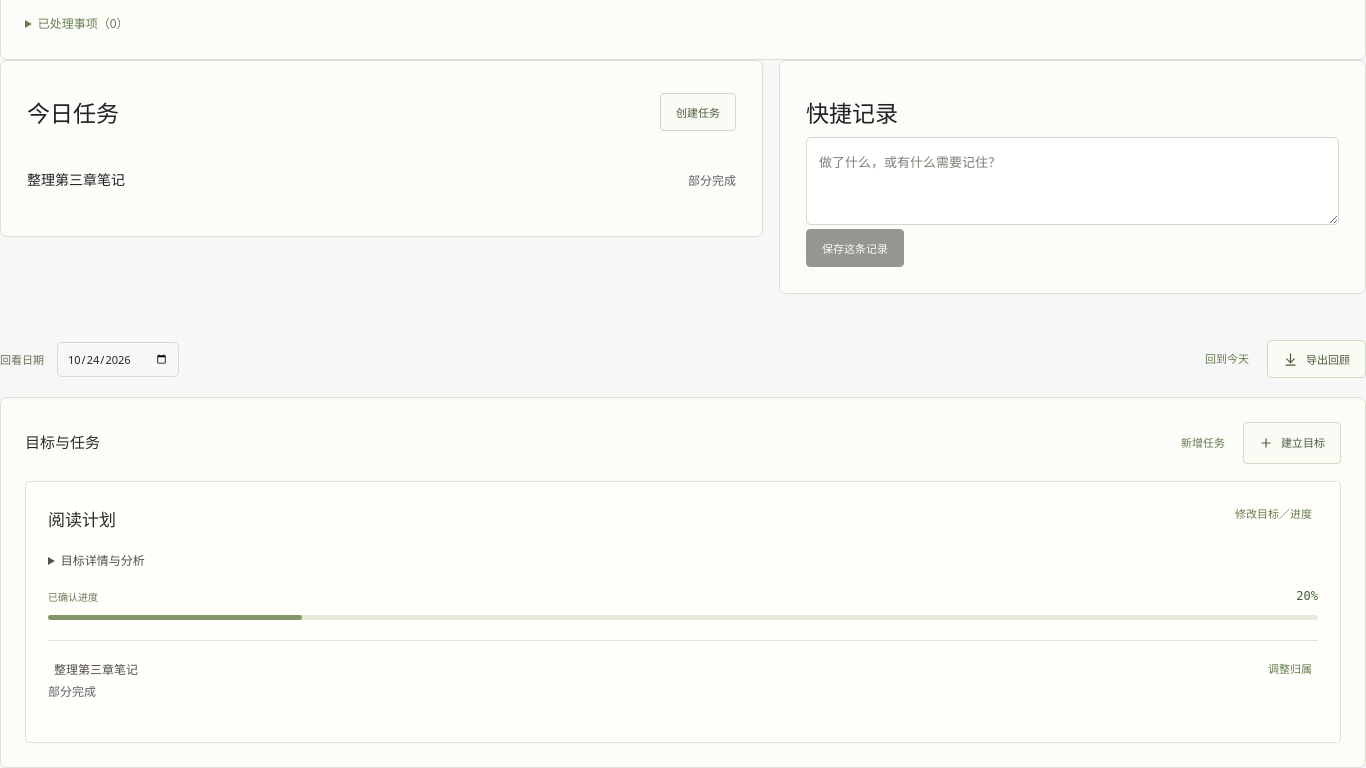
Test case: recording and approval workflows › confirms task assignment without changing historical progress
(page scrolled)
Click the button "调整归属". click: (1290, 669)
box: [1262,659,1318,680]
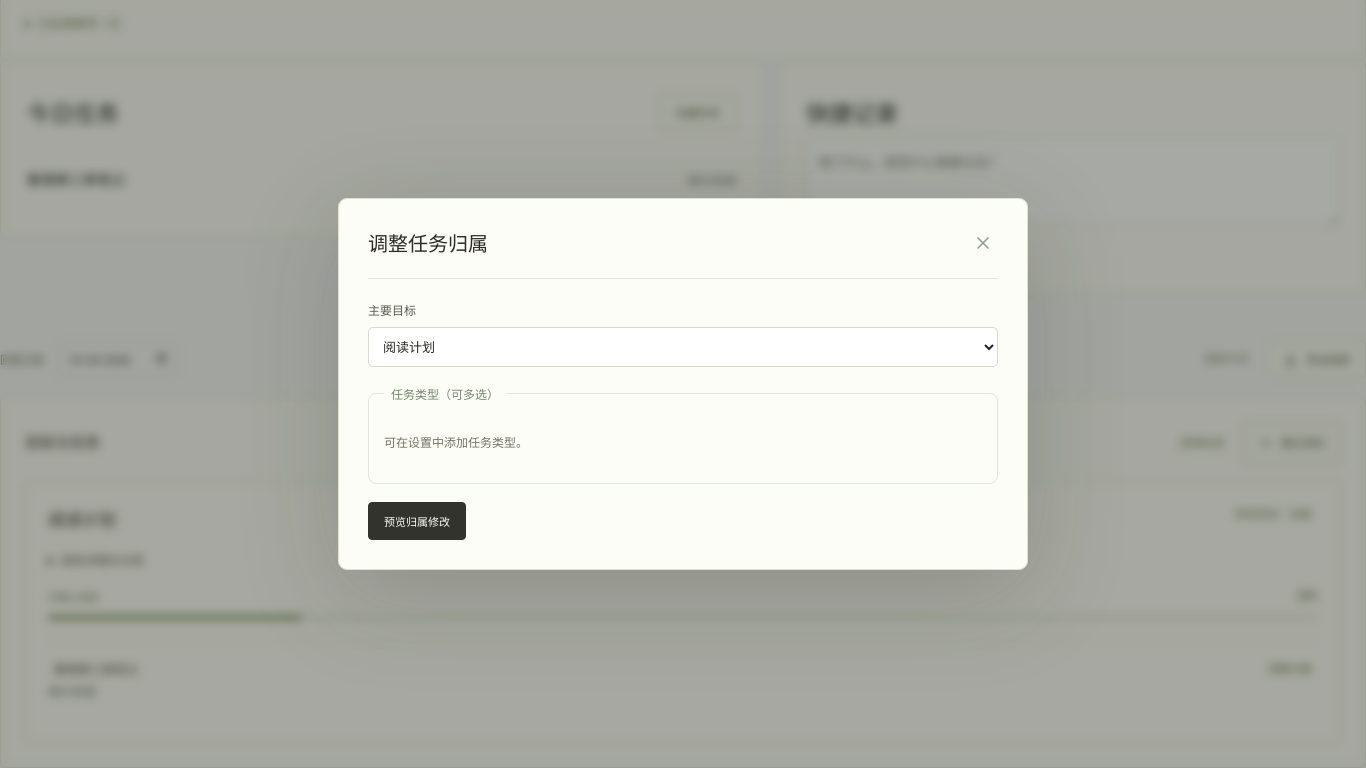
Select "暂不关联目标" in the dropdown labelled "主要目标". click: (683, 347)
box: [368,327,998,367]
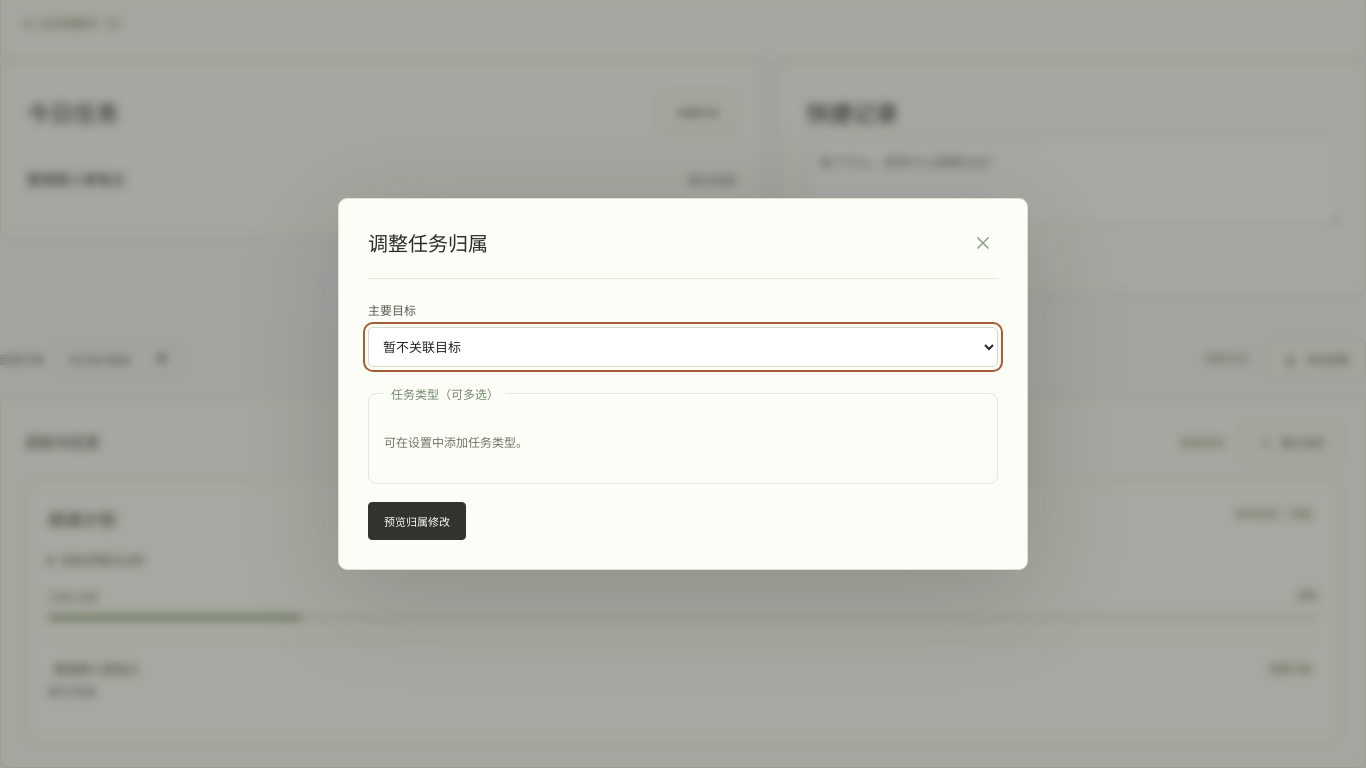
Click the button "预览归属修改". click: (417, 521)
box: [368,502,466,540]
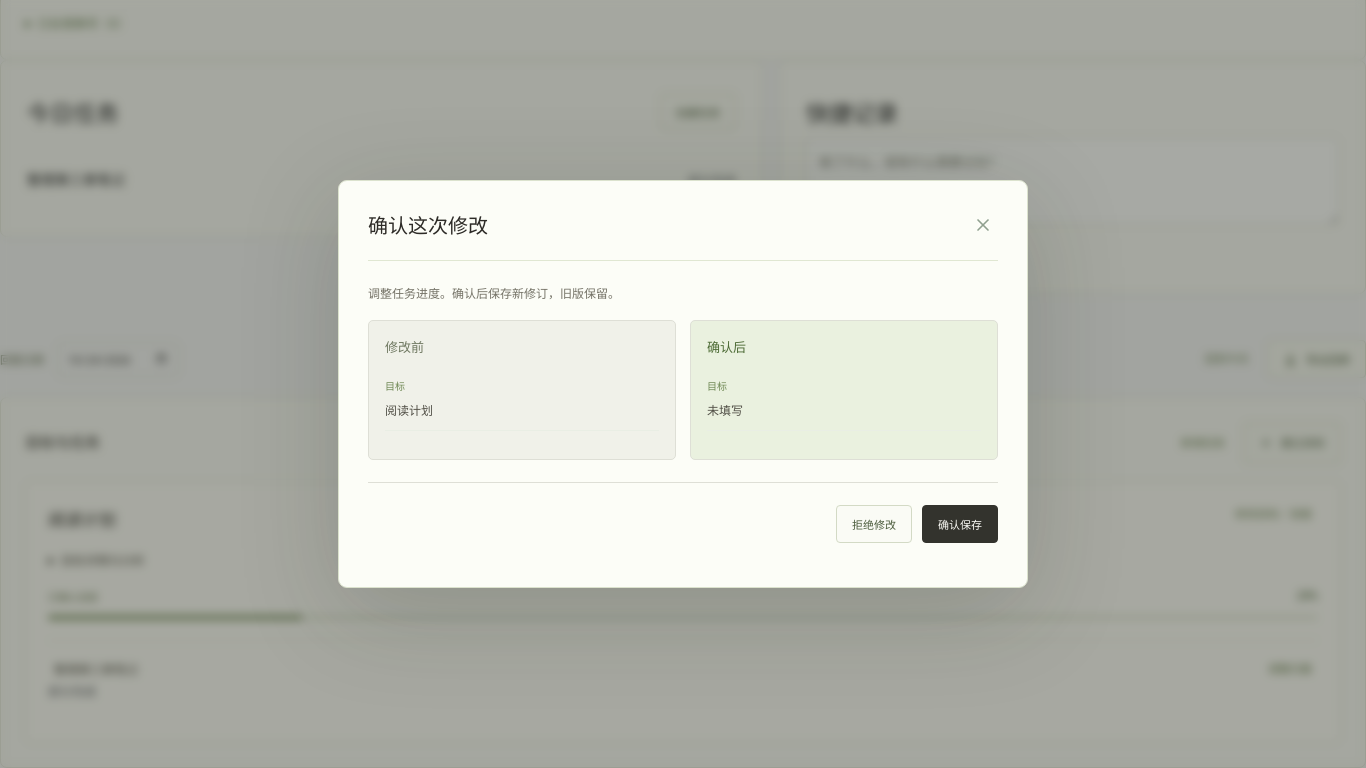
Expected: the heading "修改前" is shown, [385,338,424,356]
Expected: the heading "确认后" is shown, [707,338,746,356]
Click the button "确认保存". click: (960, 524)
box: [922,505,998,543]
(page scrolled)
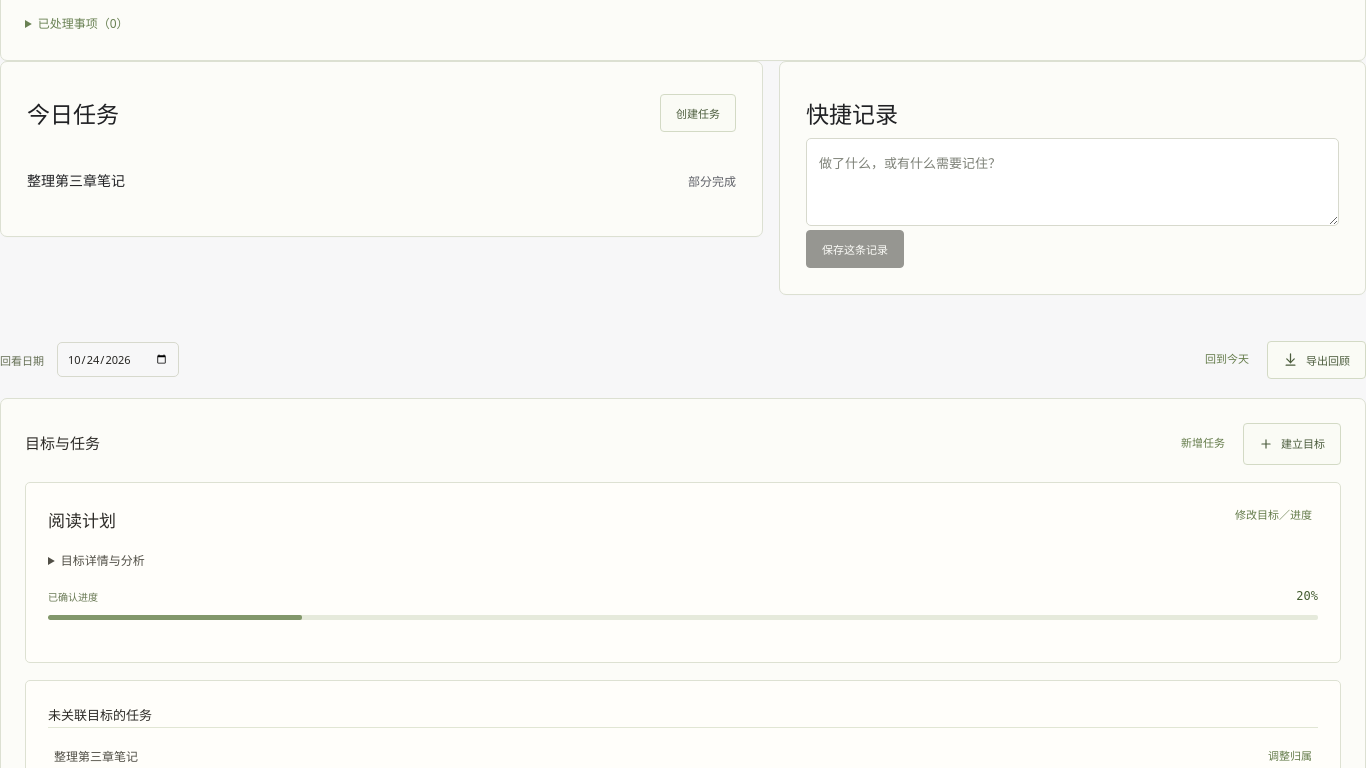
Expected: the dialog is gone
